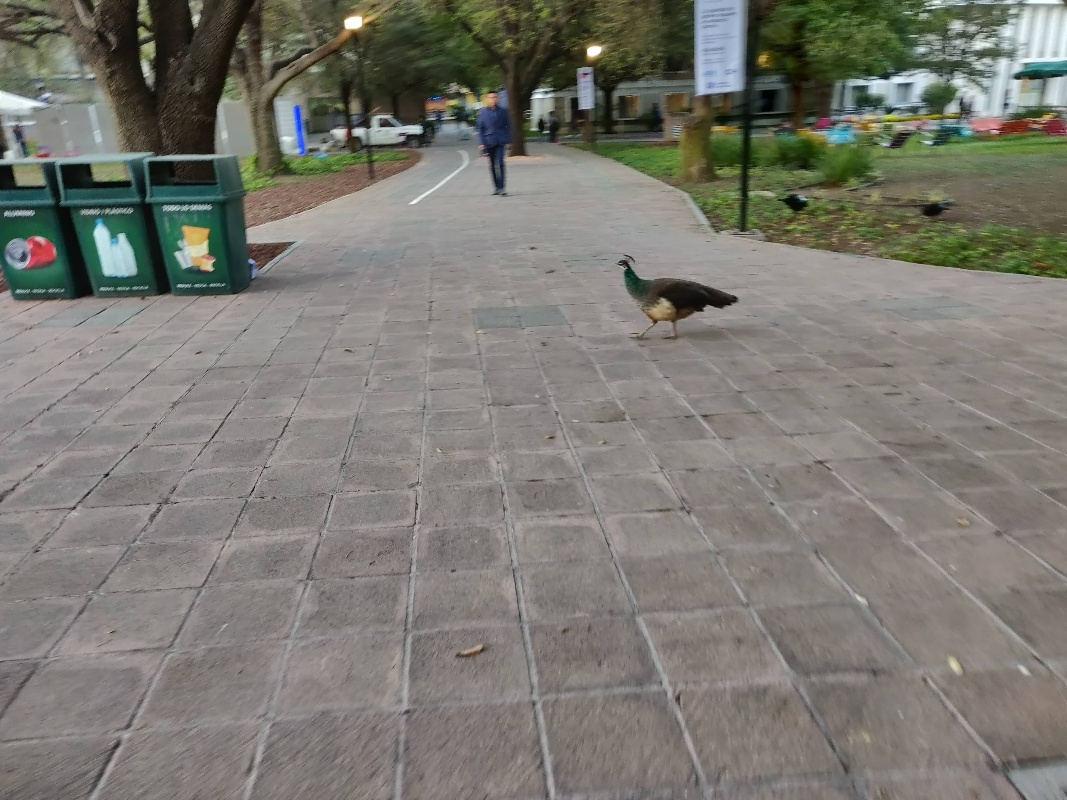pavoreal: (614, 250, 730, 344)
